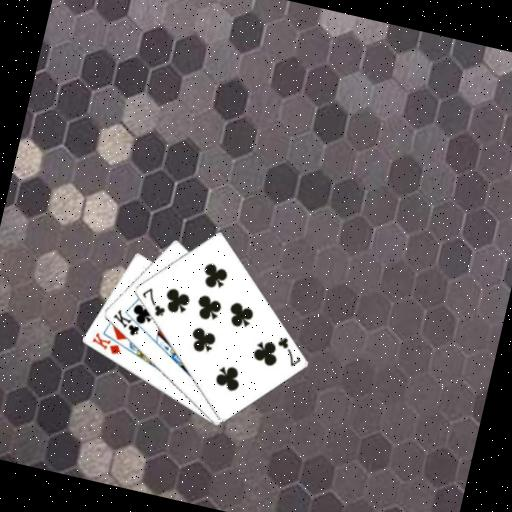7C: (269, 332, 307, 370), (134, 283, 171, 320)
KC: (107, 305, 151, 340)
KD: (87, 329, 126, 358)
